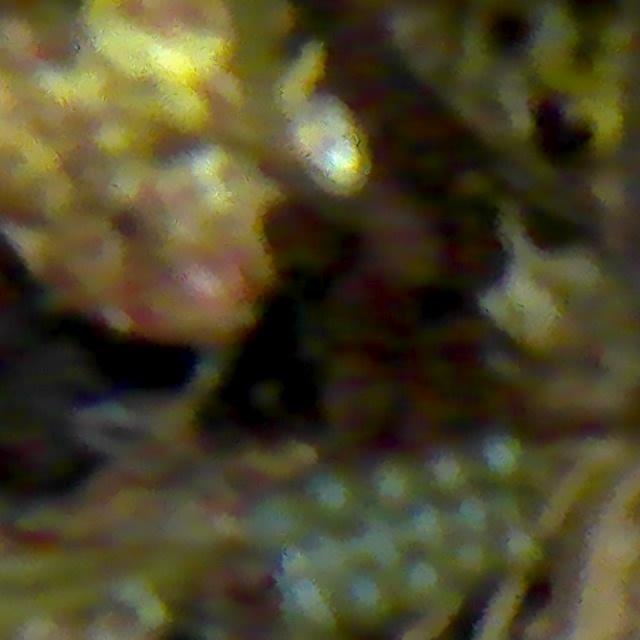SeaGrape: (250, 491, 306, 548), (305, 471, 361, 527), (341, 571, 394, 626), (372, 461, 422, 513), (397, 558, 445, 610), (480, 434, 525, 482), (426, 453, 473, 496), (407, 507, 449, 552), (498, 529, 542, 569), (449, 542, 493, 581)
